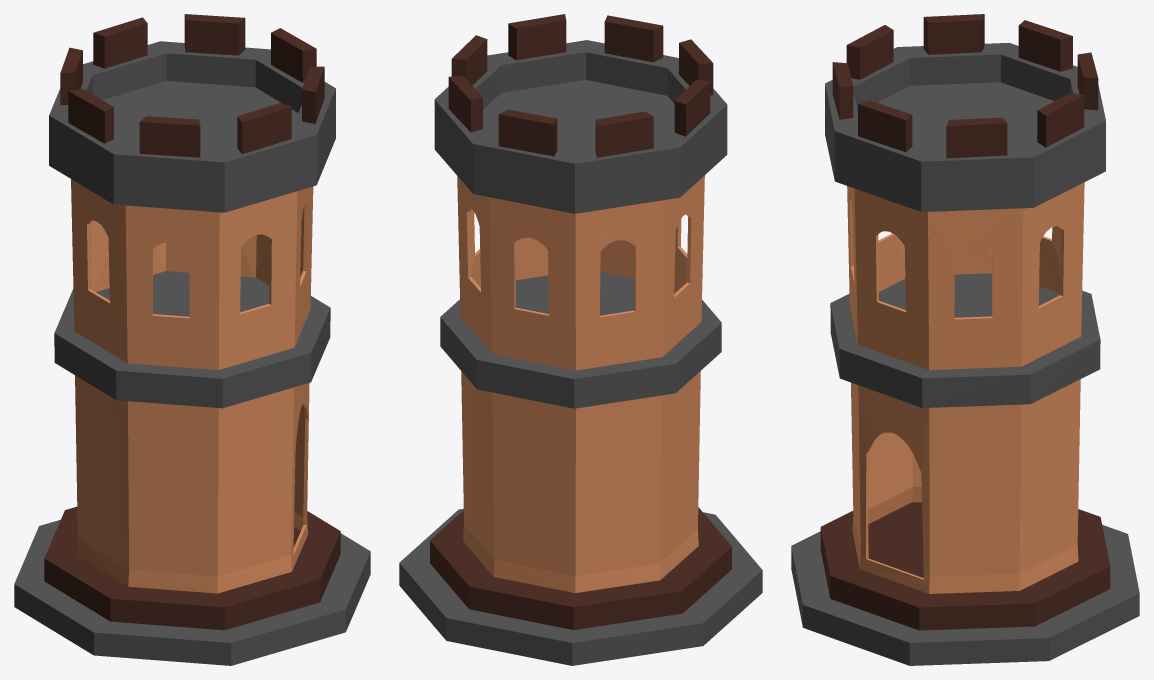
Rendered from LargeTower.fbx.
3 renders of one model, left to right at view 1: azimuth 30°, elevation 25°; view 2: azimuth 150°, elevation 25°; view 3: azimuth 270°, elevation 25°, orthographic.
Parts seen in each view (by area): view 1: Circle.012; view 2: Circle.012; view 3: Circle.012.
Part boxes in pixels (left/top/right/bottom): Circle.012: left=14, top=14, right=370, bottom=665; Circle.012: left=399, top=14, right=762, bottom=665; Circle.012: left=791, top=14, right=1139, bottom=665.
Size of the model in its own units: 726 by 1201 by 726.
